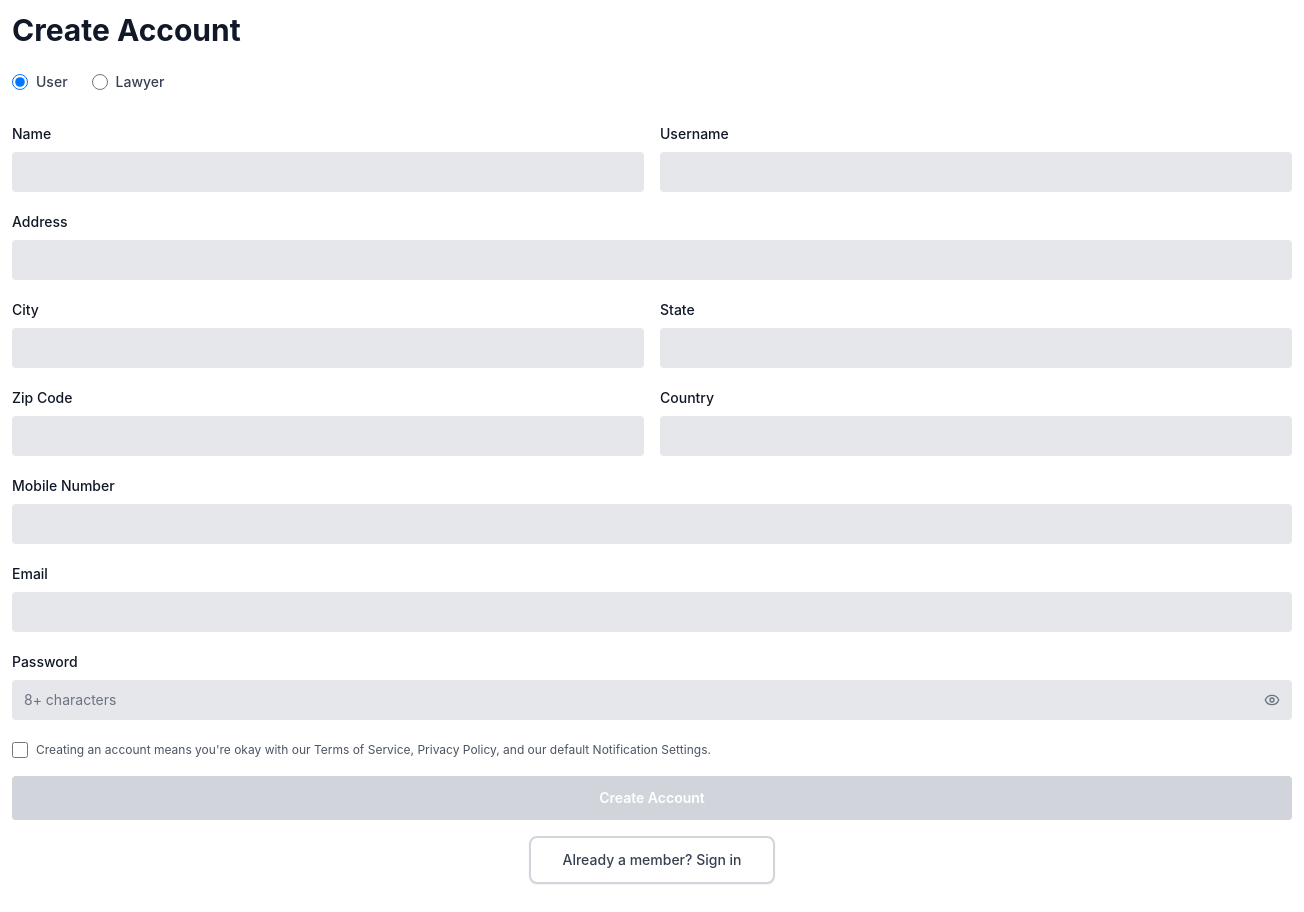
Test: AuthForm Password Validation › shows "Password must contain at least one lowercase letter" for password without lowercase
The image size is (1304, 912).
In the password field with placeholder "8+ characters": [652, 700] box [12,680,1292,720], type "12345678"
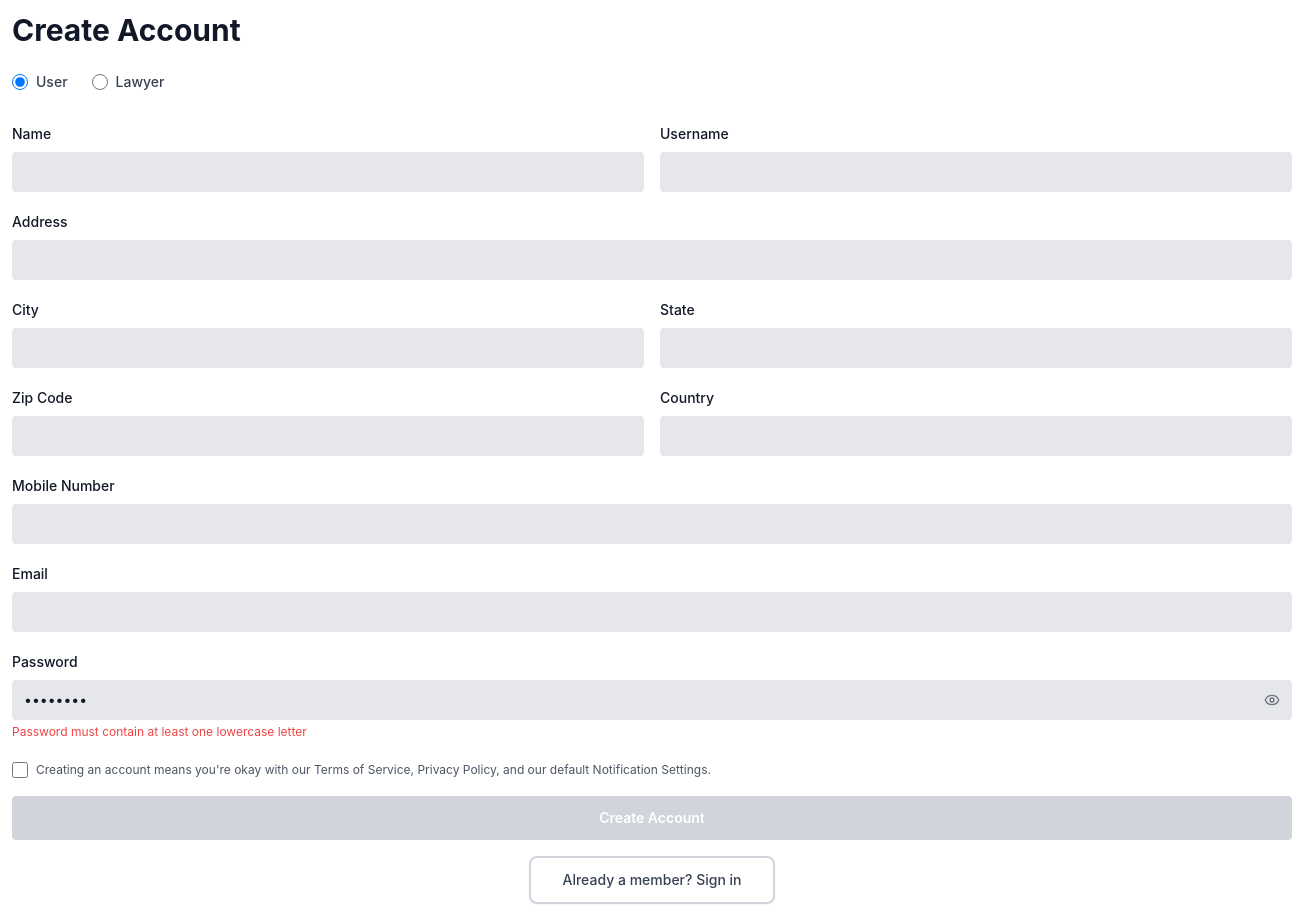
Result: the text "Password must contain at least one lowercase letter" is shown at [12,724,307,739]
